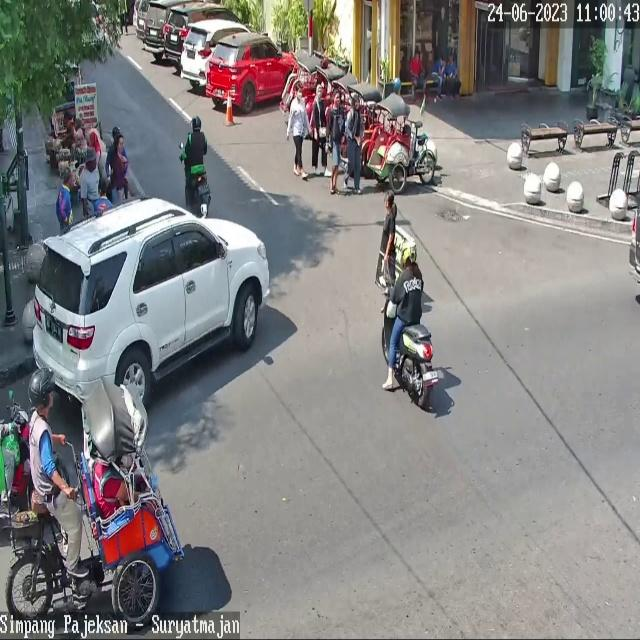bus: (380, 282, 441, 406), (0, 402, 34, 518), (194, 170, 212, 214)
motorcycle: (32, 196, 270, 408), (206, 33, 300, 112), (163, 4, 246, 64), (181, 21, 252, 84), (143, 0, 169, 53)
